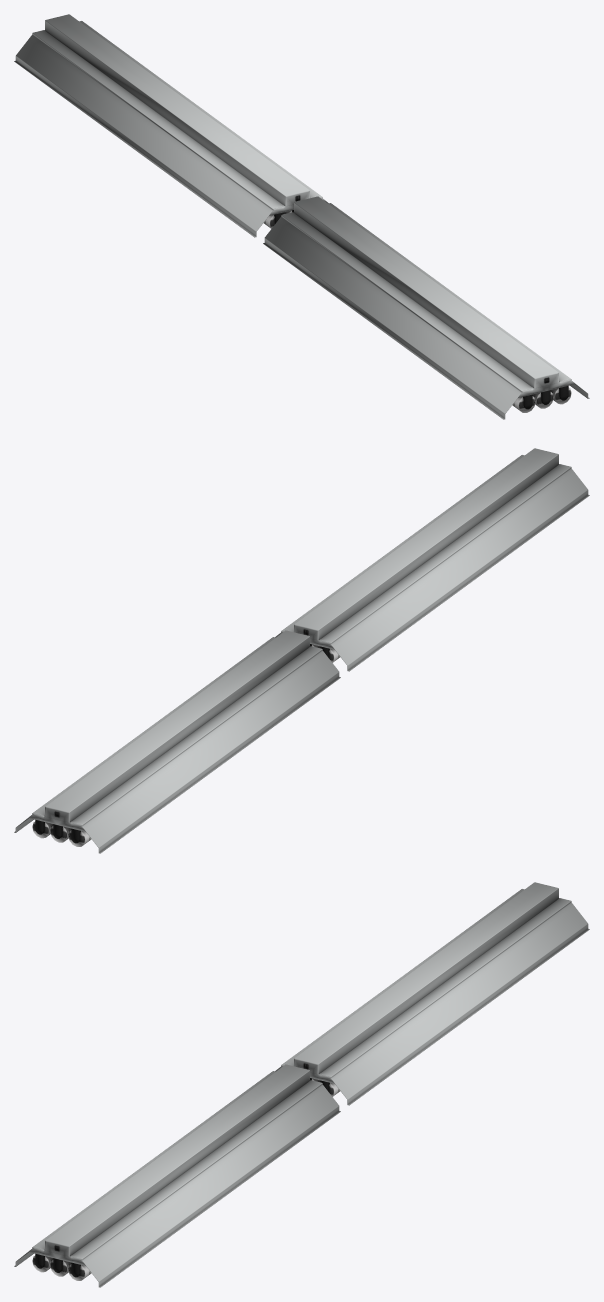
File: tubelight.dae
3 views of the same model, one above another, from view 1: azimuth 30°, elevation 25°; view 2: azimuth 150°, elevation 25°; view 3: azimuth 330°, elevation 25° (orthographic).
Parts seen in each view (by area): view 1: TubeLight; view 2: TubeLight; view 3: TubeLight.
Boxes of the visible parts, bbox=[...] form: TubeLight: bbox=[14, 14, 589, 419]; TubeLight: bbox=[14, 448, 589, 853]; TubeLight: bbox=[14, 882, 589, 1287].
Bounding box in the file's own units: 19.28 × 189 × 7.35.
Materials: 1 (1 with a texture image).
